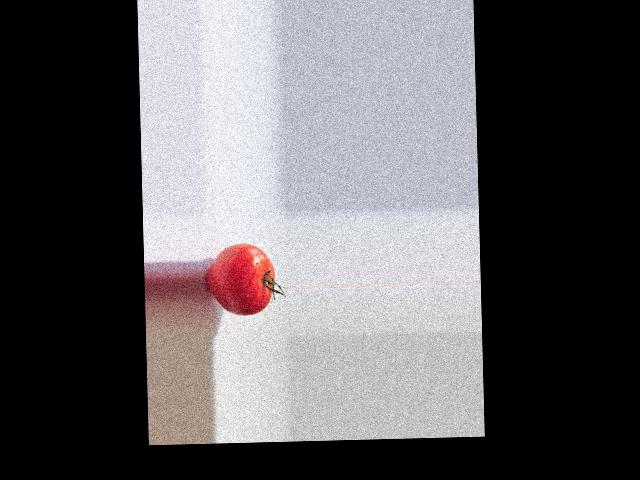tomato: (207, 242, 274, 315)
